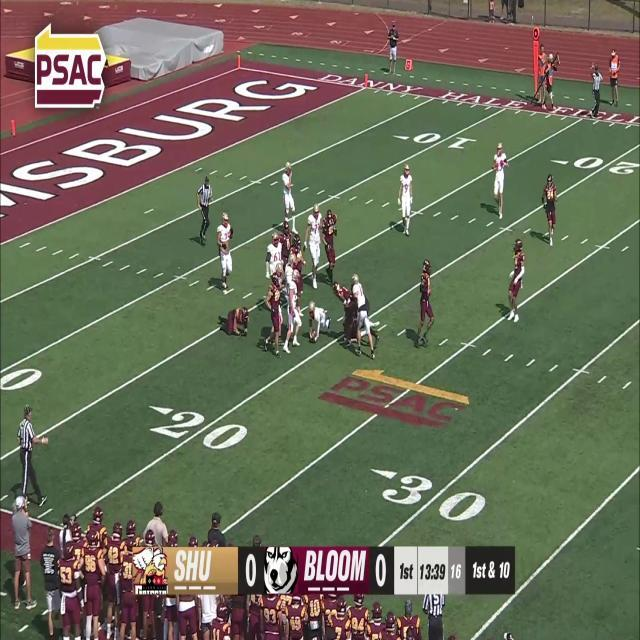football: (310, 328, 317, 341)
